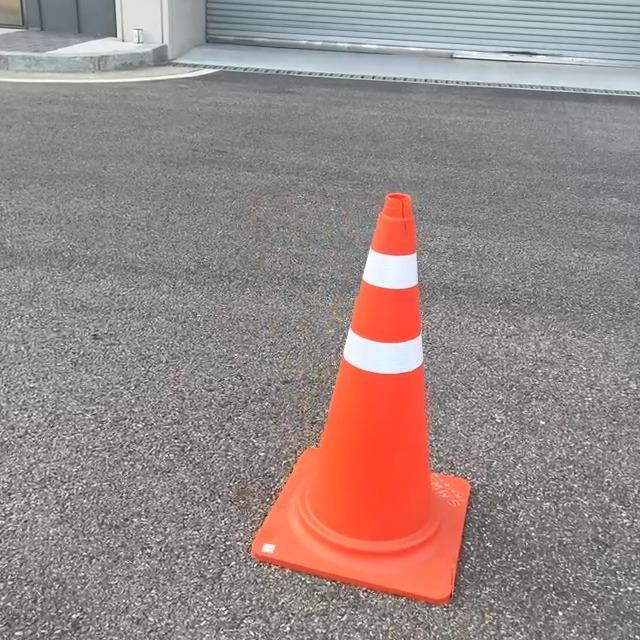fallen_object: (233, 159, 509, 604)
